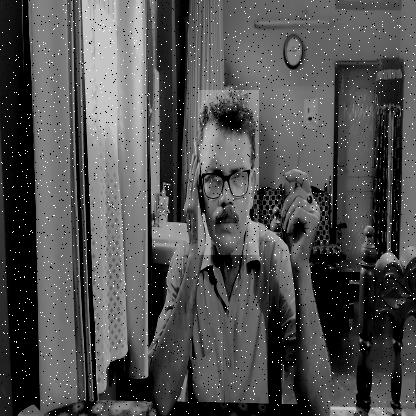Normal: (198, 90, 259, 255)
